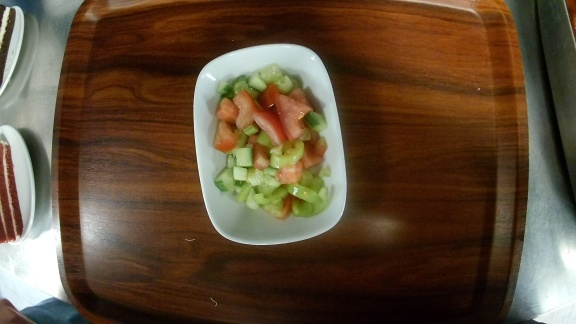cobansalata: (192, 43, 348, 246)
